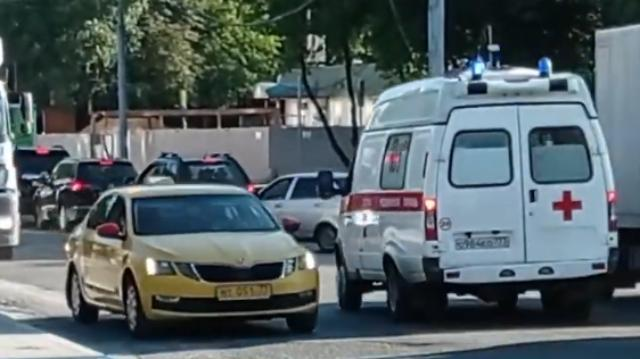ambulance: (340, 67, 621, 332)
non emergency car: (63, 184, 321, 336), (33, 156, 137, 232), (262, 173, 359, 250)
